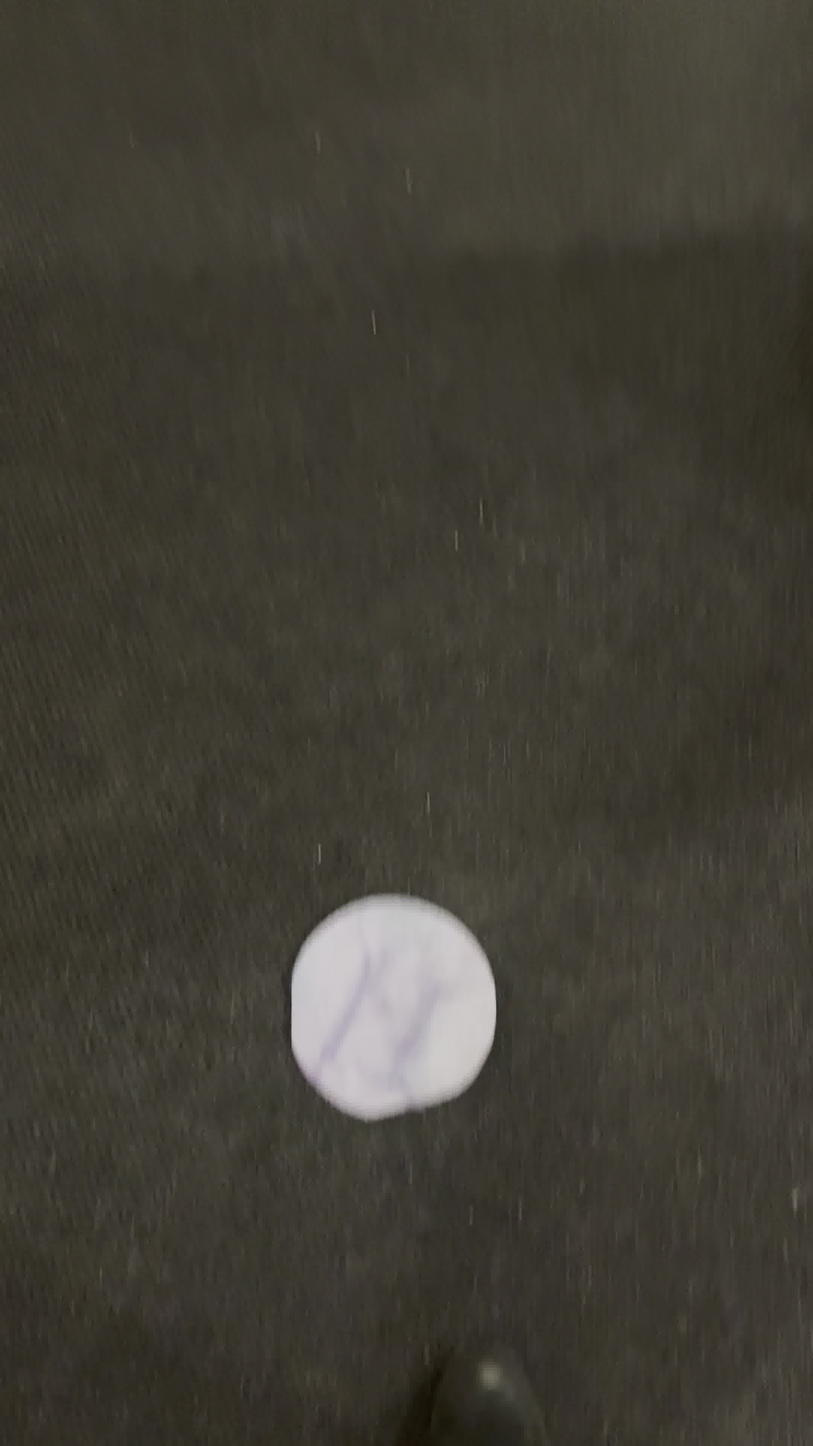Target: (284, 889, 504, 1125)
